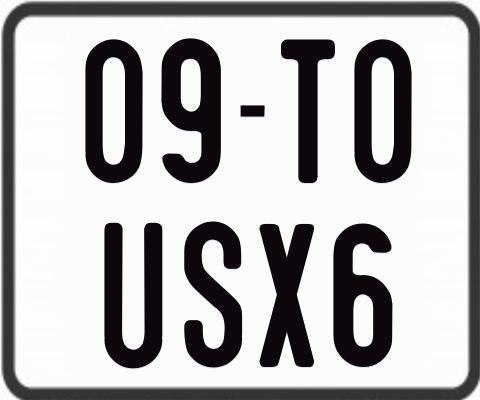0: (82, 39, 146, 189), (352, 36, 412, 180)
6: (332, 222, 395, 371)
9: (158, 36, 220, 185)
S: (181, 221, 244, 369)
T: (279, 38, 334, 188)
U: (102, 220, 165, 369)
X: (257, 224, 313, 370)
